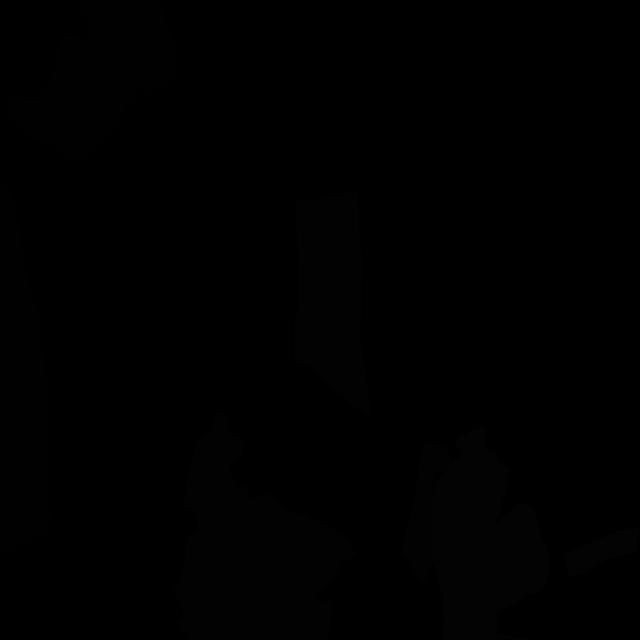cardboard: (172, 410, 357, 640), (294, 190, 370, 418), (400, 441, 450, 583)
metal: (430, 428, 550, 640), (563, 527, 640, 578)
rigid_plastic: (3, 0, 179, 160), (0, 181, 51, 558)
